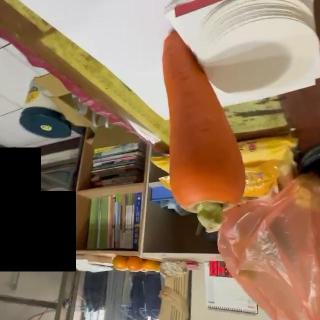carrot: (155, 31, 245, 233)
